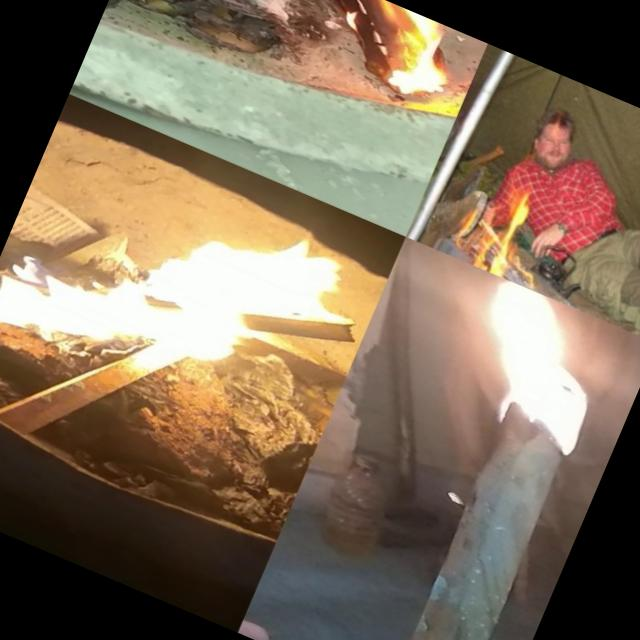fire: (0, 121, 356, 452), (402, 255, 640, 458), (285, 0, 466, 105), (452, 176, 566, 290)
